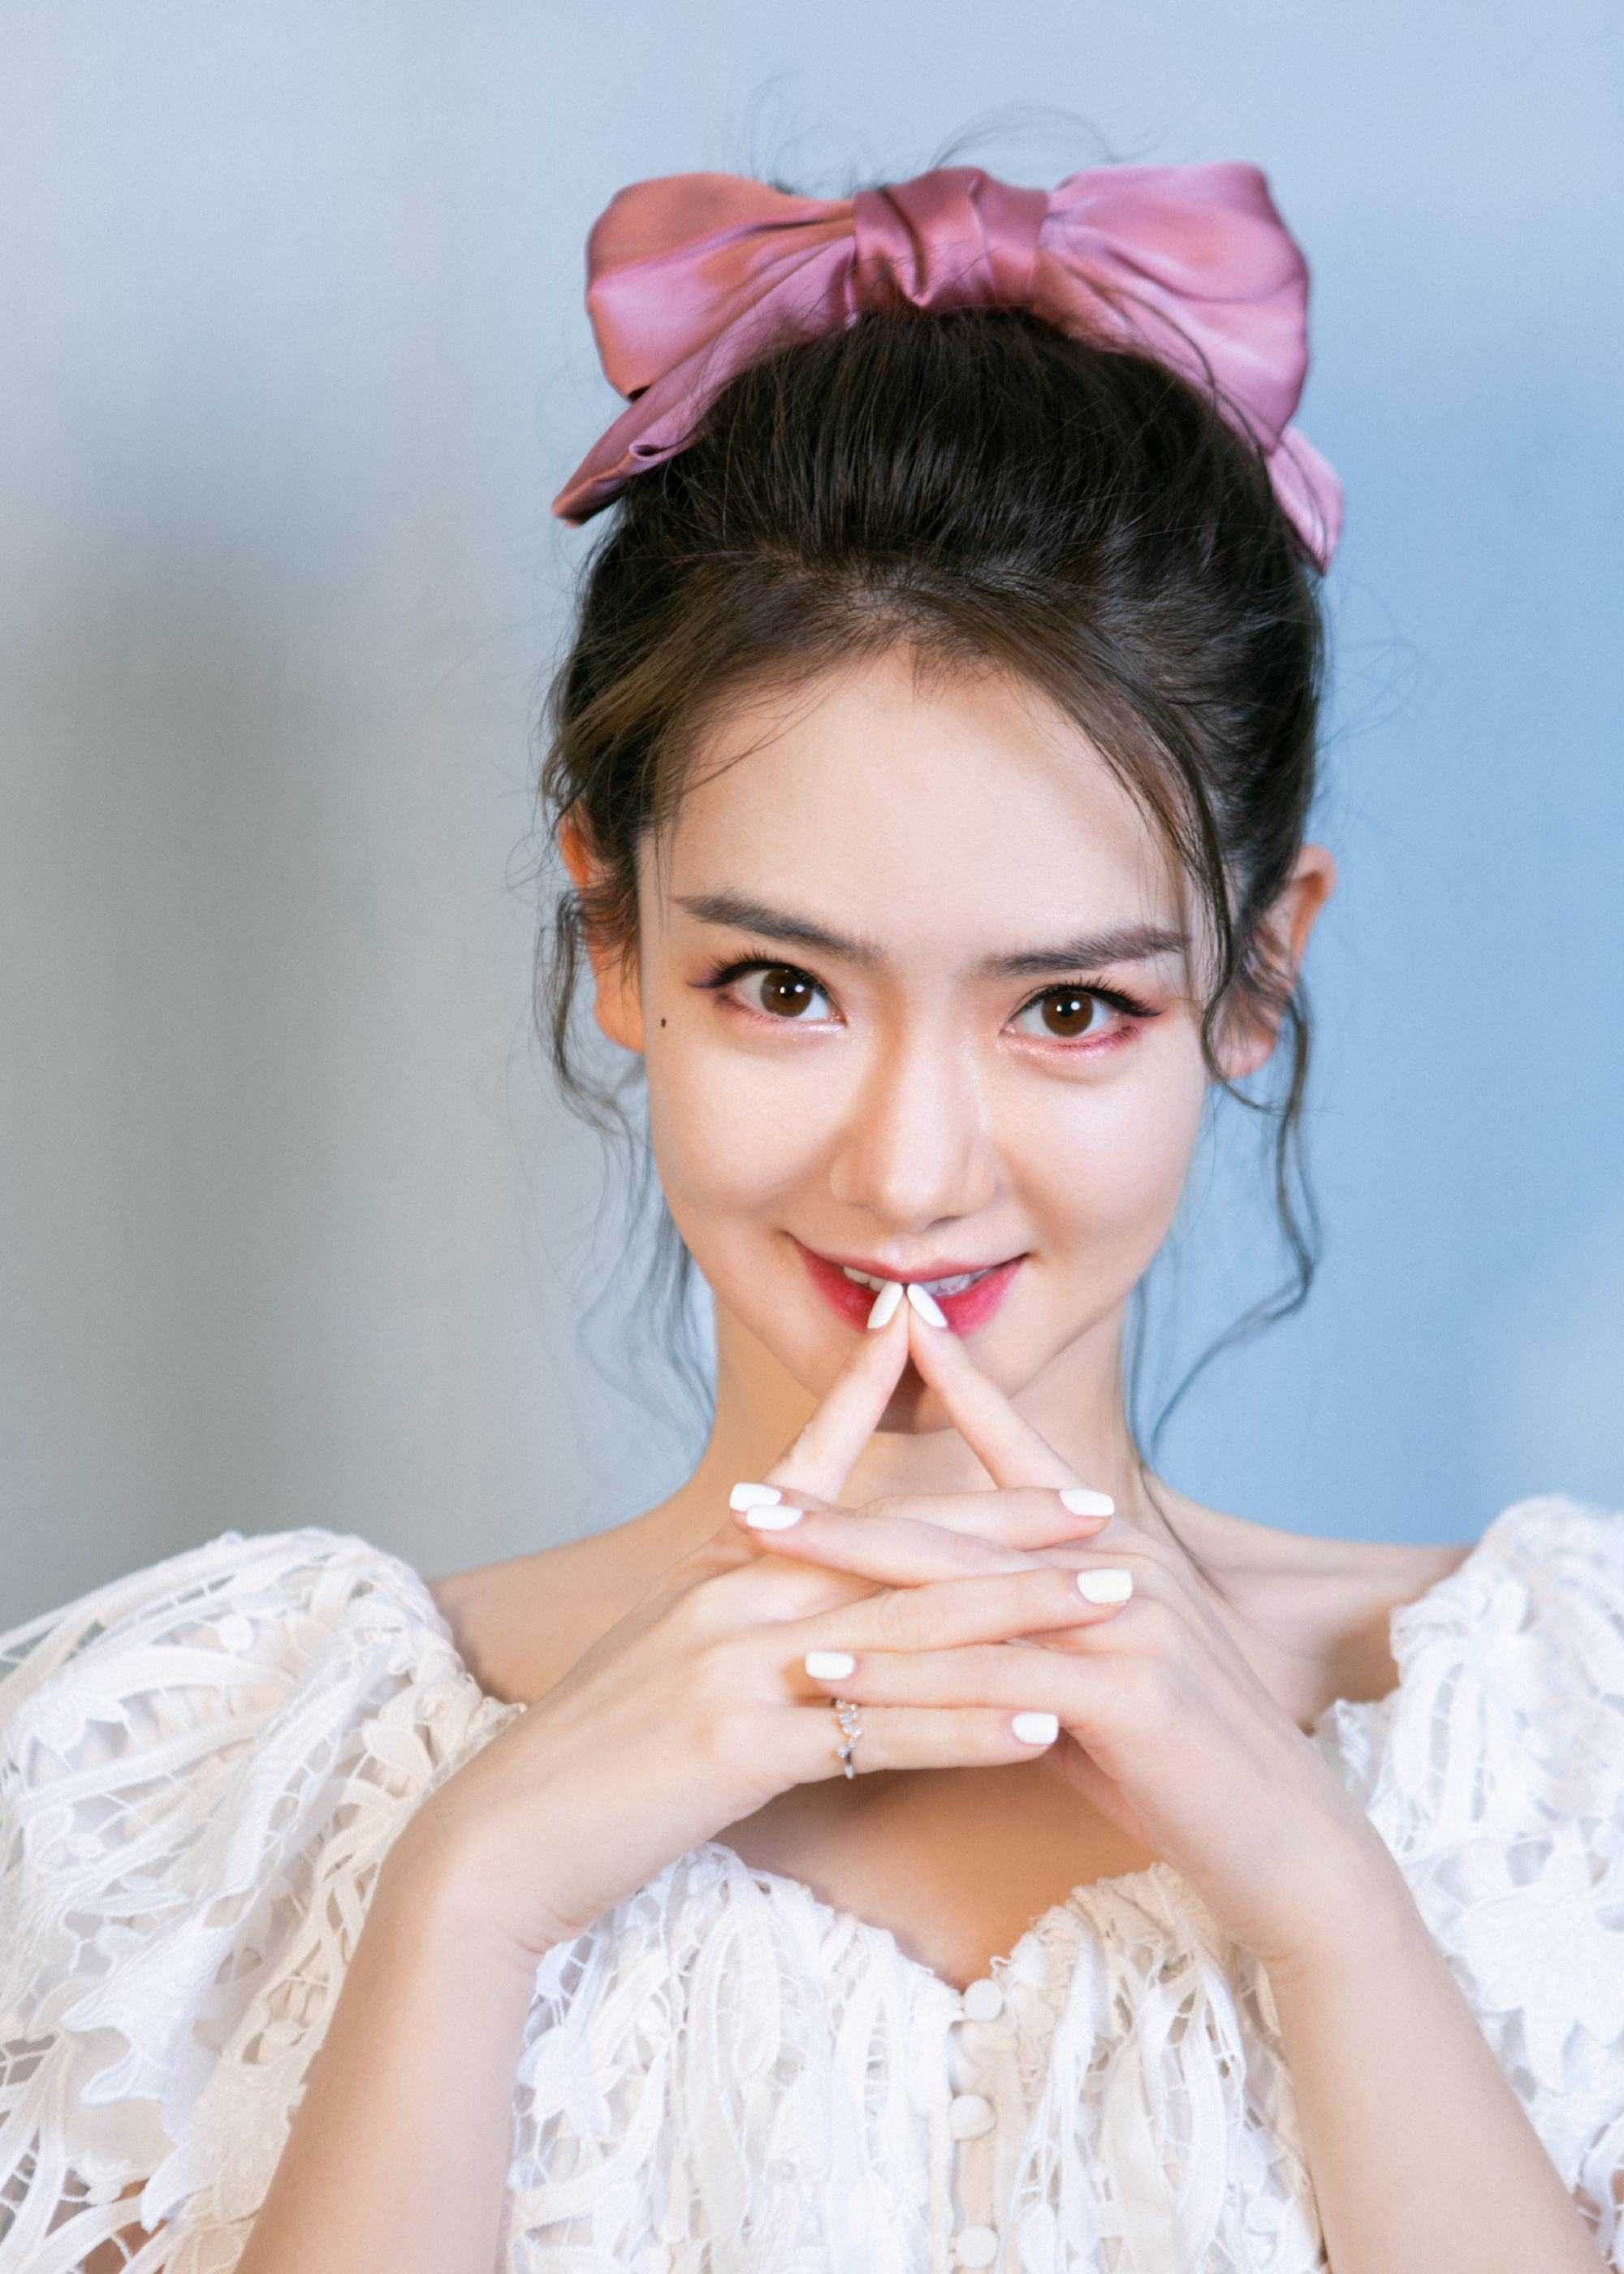person: (99, 248, 1624, 2274)
